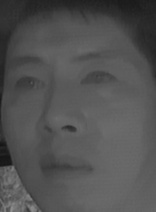eye: (77, 68, 117, 90), (11, 72, 49, 95)
mouth: (36, 148, 94, 185)
